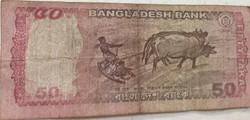50 taka: (4, 3, 250, 116)
